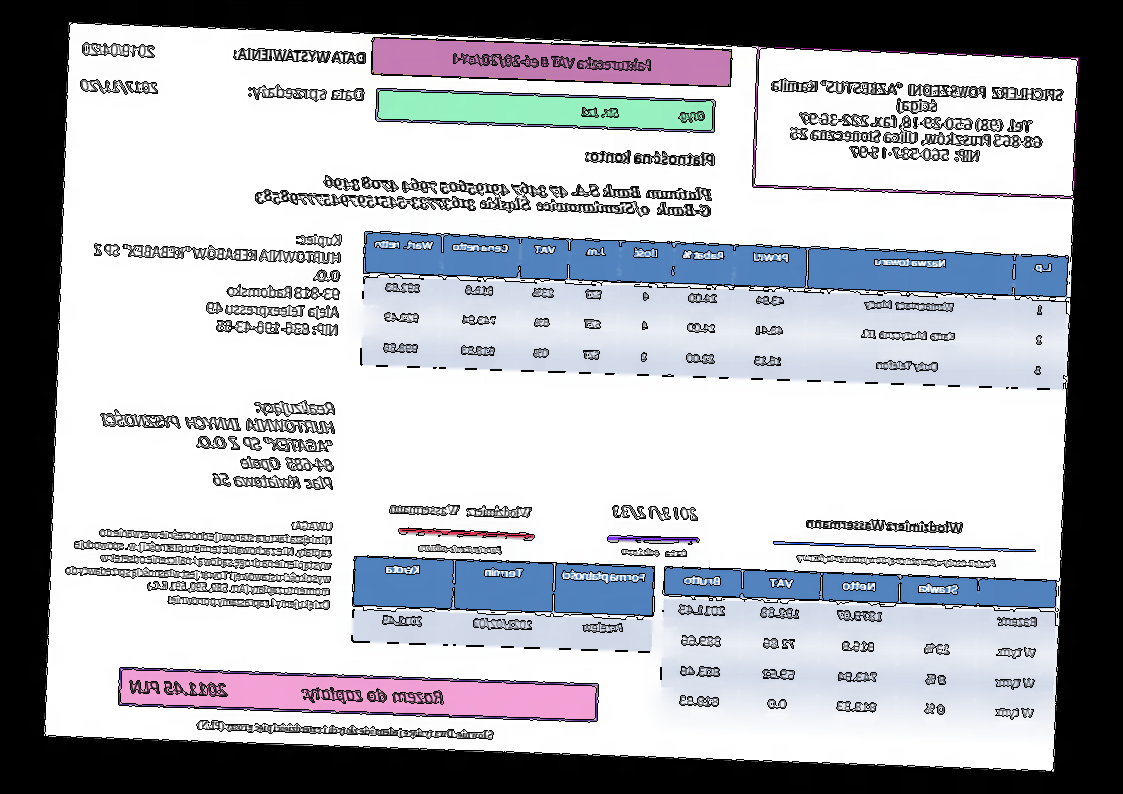Table: (358, 229, 1071, 392), (657, 564, 1059, 733), (348, 554, 657, 654)
TextBox: (89, 223, 344, 341), (59, 510, 335, 612), (765, 76, 1066, 169), (96, 389, 340, 496), (250, 168, 715, 224), (126, 675, 448, 711), (194, 716, 497, 744), (451, 48, 657, 75), (794, 548, 999, 572), (802, 511, 967, 538), (230, 41, 367, 69), (583, 145, 716, 172), (386, 498, 537, 521), (578, 102, 707, 125), (245, 82, 366, 106), (610, 500, 702, 524), (79, 75, 162, 98), (79, 38, 157, 60), (618, 542, 693, 561), (416, 541, 505, 557)
